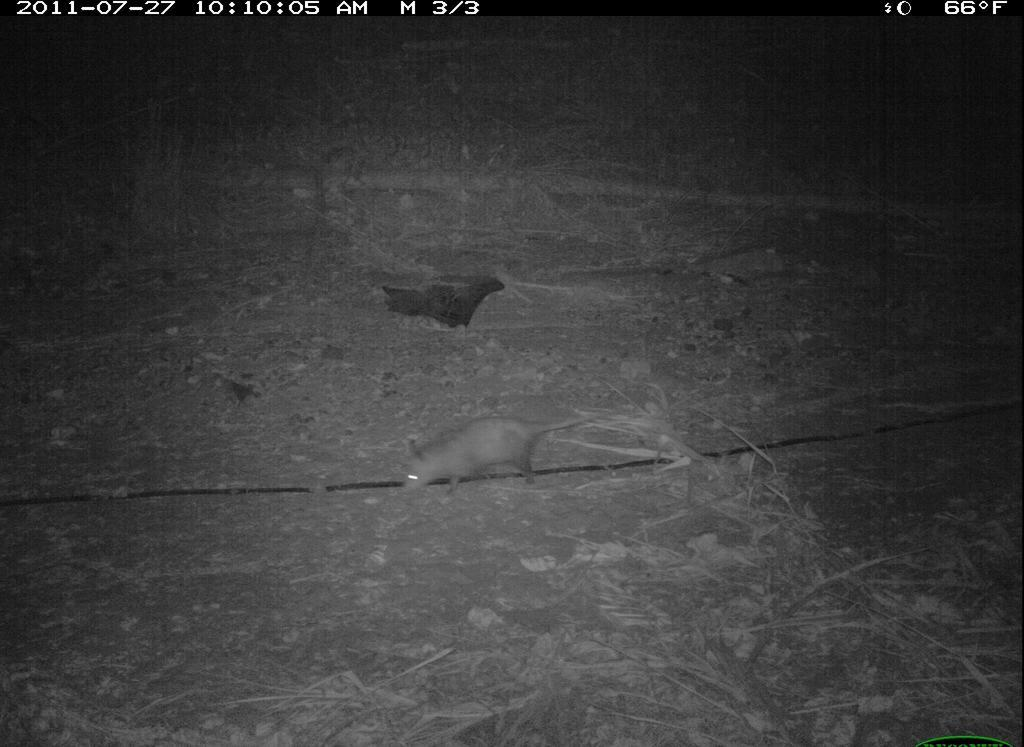opossum: (361, 397, 619, 511)
